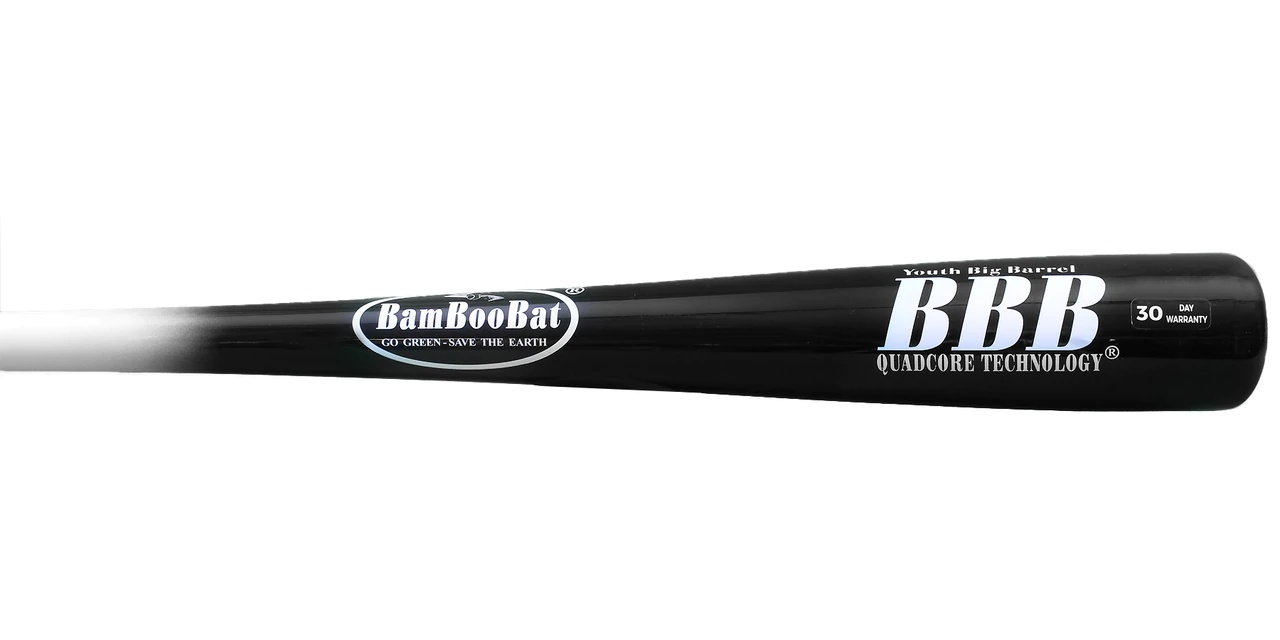bita: (10, 253, 1249, 414)
